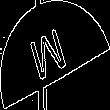M_S: (33, 23, 77, 87)
